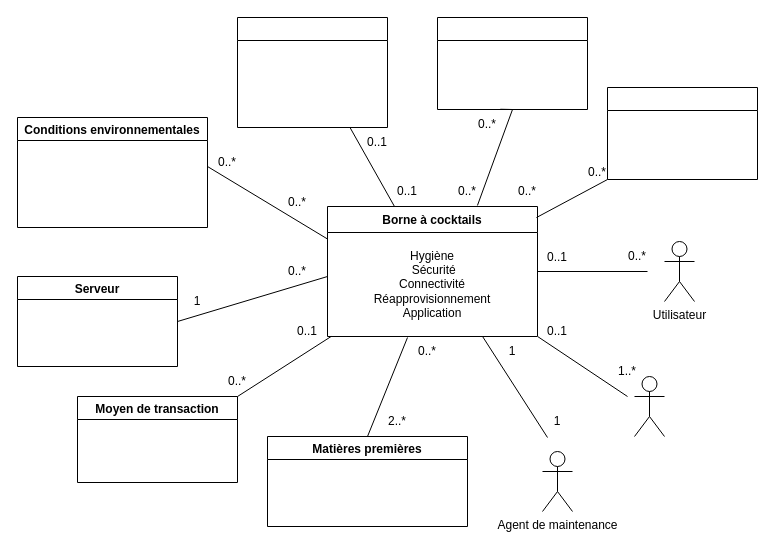
This 775x550 diagram has some shape labels left out. The centre of each missing label's shape, as x and y in pixels:
"Exploitant" goes at (x=649, y=406).
"Récipient vide" goes at (x=312, y=72).
"Source d'eau" goes at (x=512, y=63).
"Source d'énergie" goes at (x=682, y=133).
